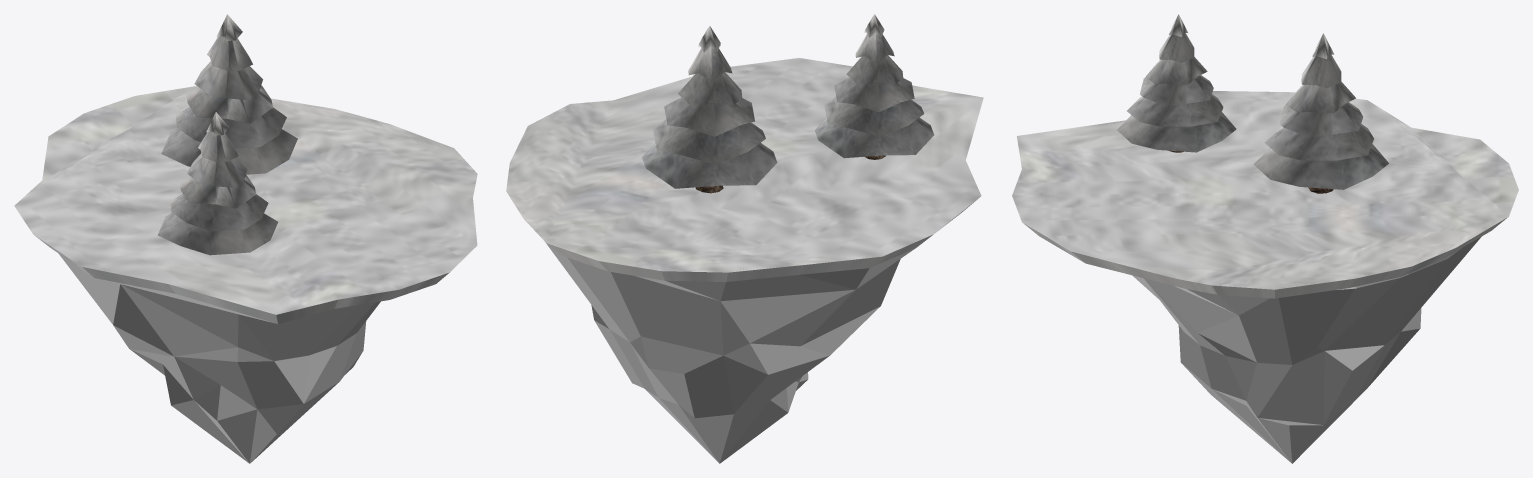
The model's file is sideOstrvo.obj.
3 views of the same model, side by side, from view 1: azimuth 30°, elevation 25°; view 2: azimuth 150°, elevation 25°; view 3: azimuth 270°, elevation 25° (orthographic). The views are drawn at different scales.
Parts seen in each view (by area): view 1: Island_Grass_Cylinder.004, Island_Cylinder.003, Tree_Behind_Plant_Cylinder.005, Tree_Mid_Plant_Cylinder.009; view 2: Island_Grass_Cylinder.004, Island_Cylinder.003, Tree_Behind_Plant_Cylinder.005, Tree_Mid_Plant_Cylinder.009; view 3: Island_Grass_Cylinder.004, Island_Cylinder.003, Tree_Behind_Plant_Cylinder.005, Tree_Mid_Plant_Cylinder.009.
Part boxes in pixels (x1,y1,x2,y2): Island_Grass_Cylinder.004: (14, 86, 477, 323); Island_Cylinder.003: (58, 253, 380, 463); Tree_Behind_Plant_Cylinder.005: (161, 14, 297, 174); Tree_Mid_Plant_Cylinder.009: (157, 112, 277, 255); Island_Grass_Cylinder.004: (506, 58, 983, 281); Island_Cylinder.003: (545, 242, 915, 463); Tree_Behind_Plant_Cylinder.005: (642, 26, 777, 188); Tree_Mid_Plant_Cylinder.009: (814, 14, 933, 158); Island_Grass_Cylinder.004: (1012, 91, 1518, 298); Island_Cylinder.003: (1132, 236, 1481, 463); Tree_Behind_Plant_Cylinder.005: (1253, 33, 1388, 189); Tree_Mid_Plant_Cylinder.009: (1117, 14, 1236, 152).
Bounding box in the file's own units: 5.89 × 6.07 × 6.52.
Materials: 6 (5 with a texture image).
